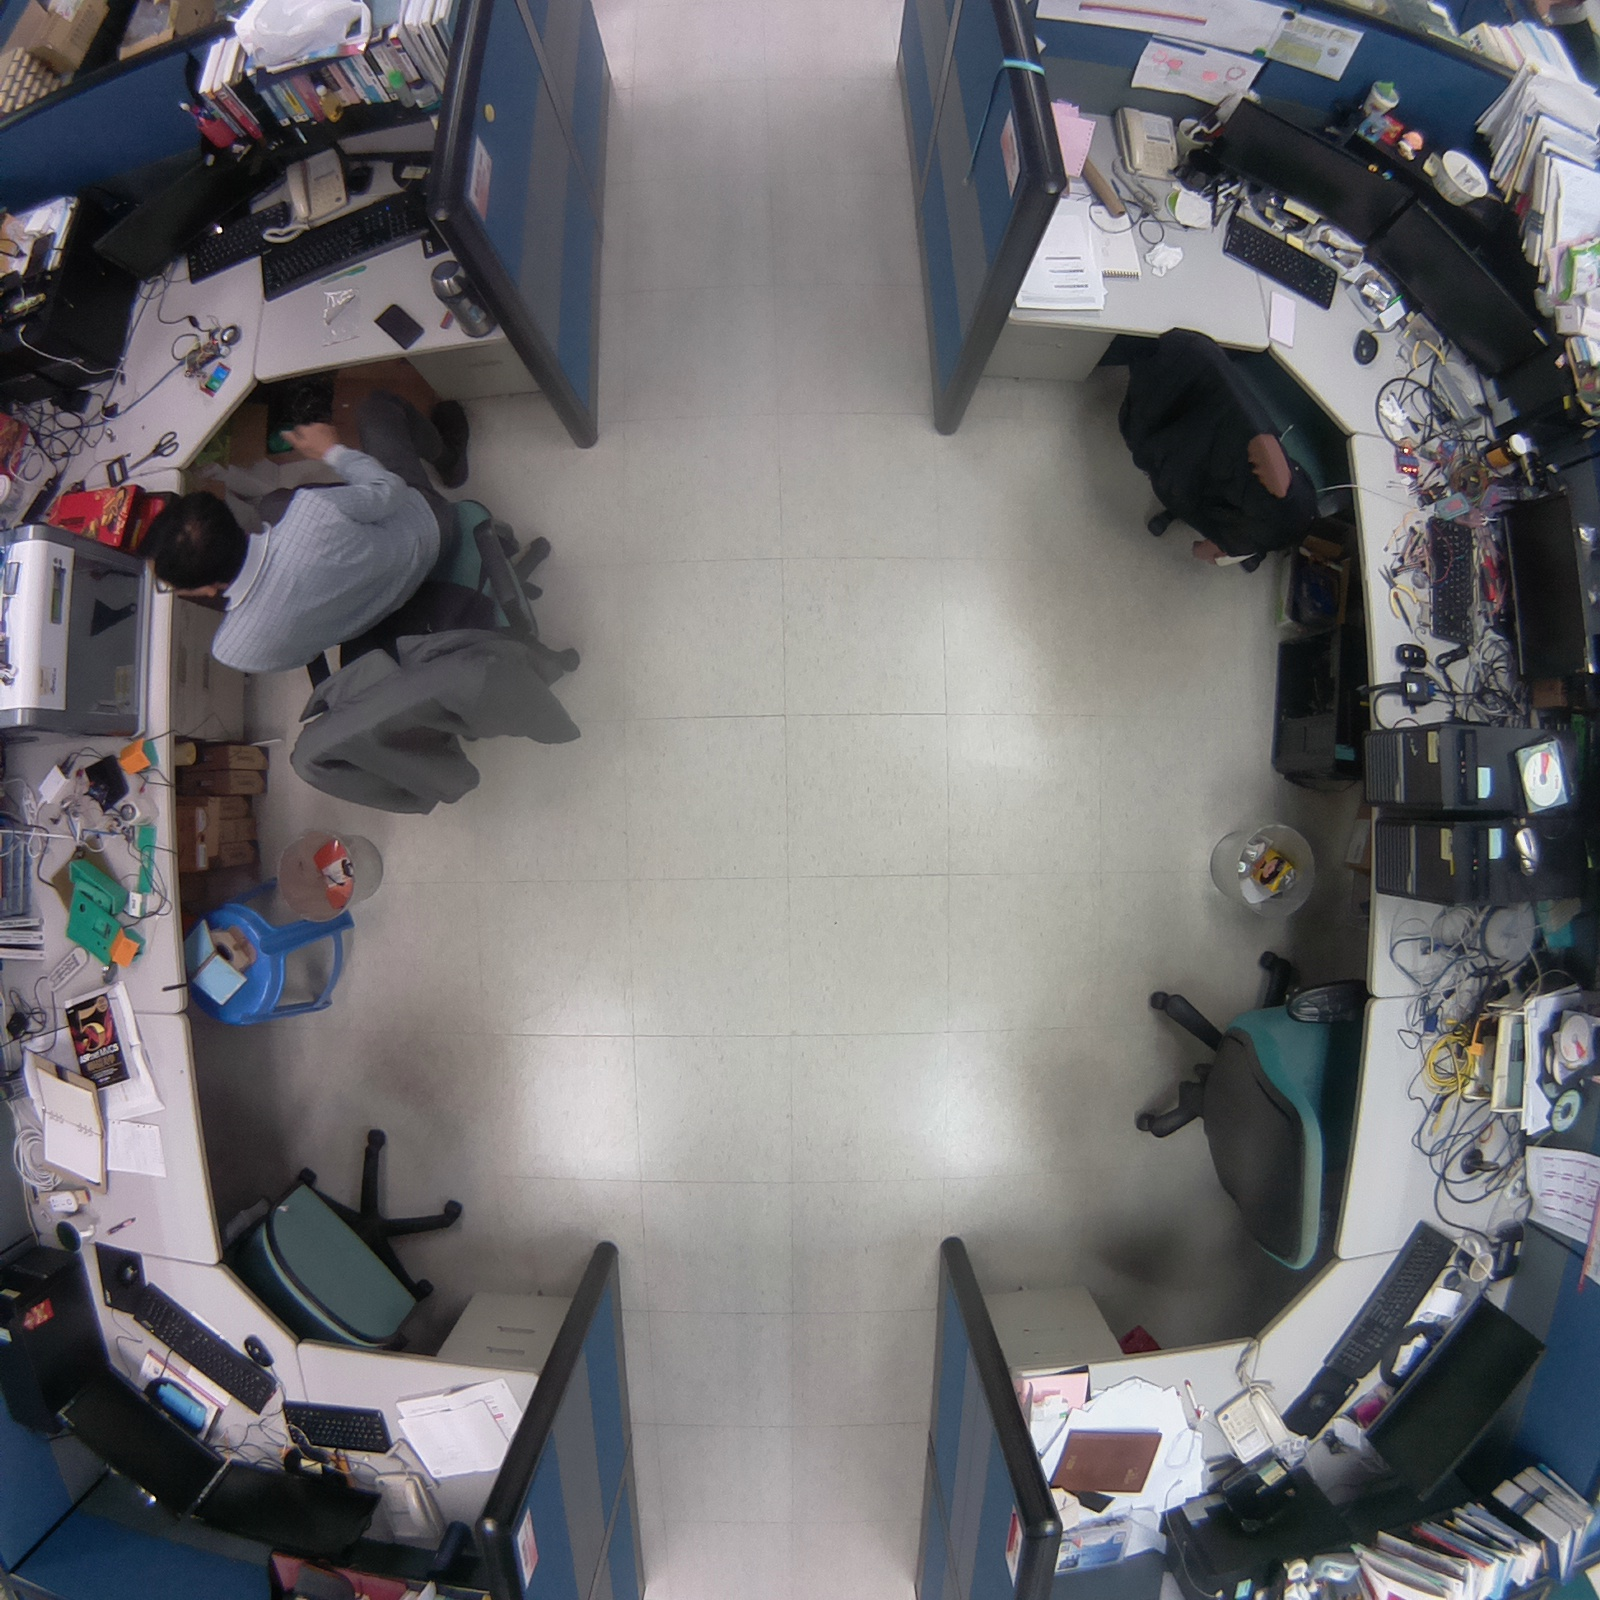chair: (1122, 934, 1381, 1291), (1096, 296, 1365, 588), (204, 1114, 483, 1368)
head: (140, 482, 251, 608)
sitting: (128, 360, 599, 827)
